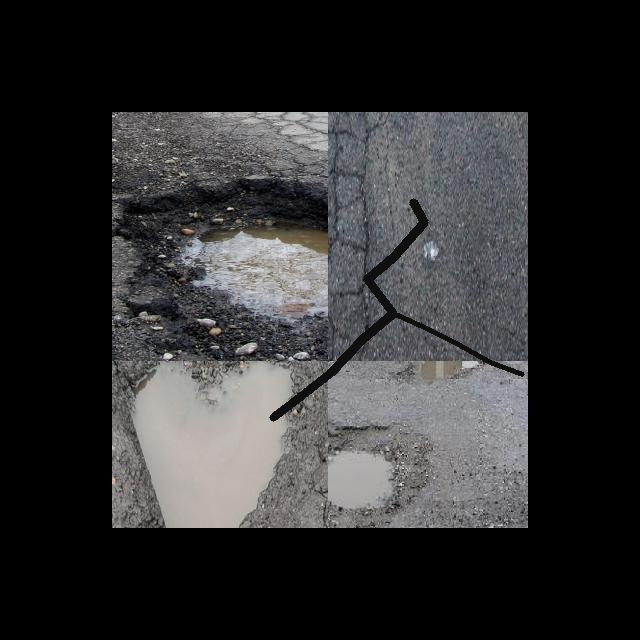road_crack: (263, 192, 434, 427)
